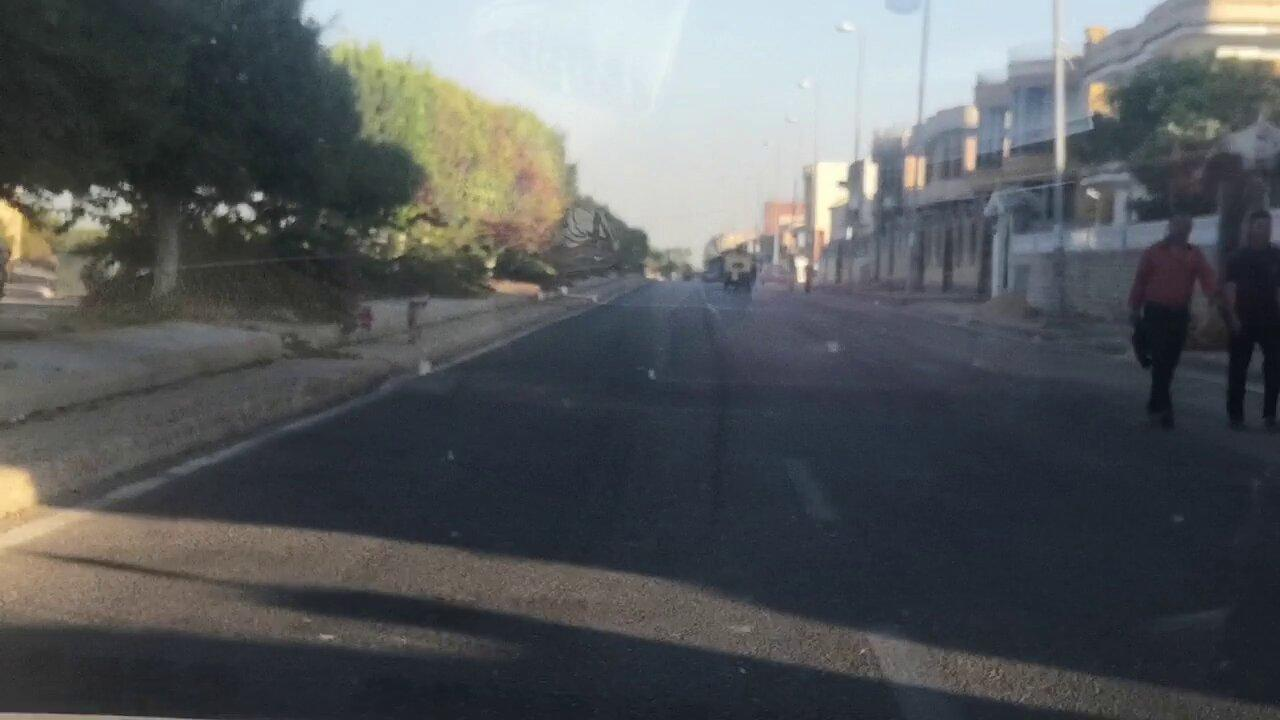Bump: (366, 367, 1152, 435)
